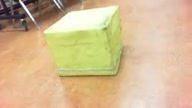cube: (44, 5, 122, 76)
